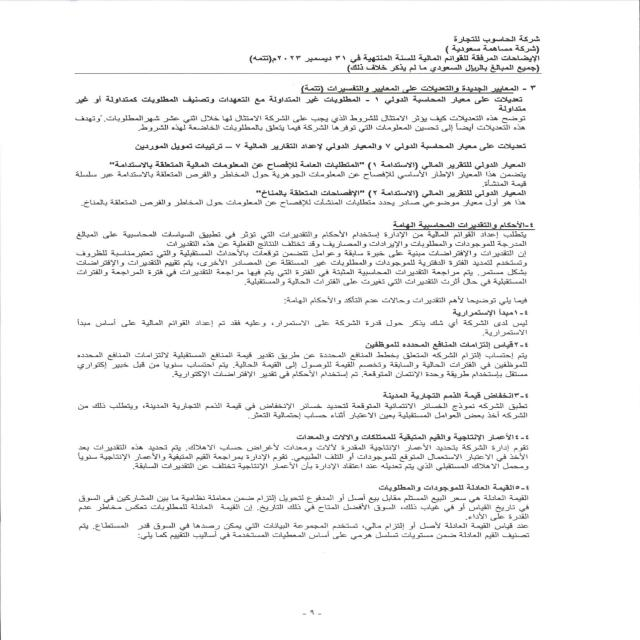notes: (419, 51, 542, 64)
text: (48, 78, 546, 561)
